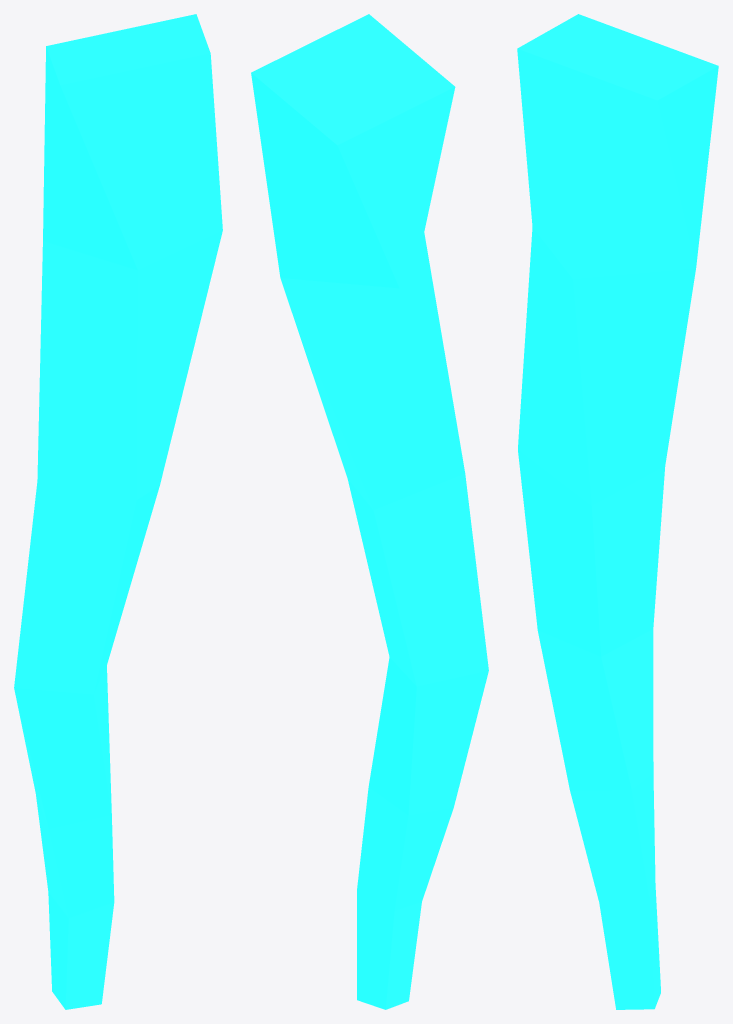
File: Plant.fbx
3 views of the same model, side by side, from view 1: azimuth 30°, elevation 25°; view 2: azimuth 150°, elevation 25°; view 3: azimuth 270°, elevation 25° (orthographic). The views are drawn at different scales.
Visible parts, largest first — view 1: Cube.015; view 2: Cube.015; view 3: Cube.015.
Boxes of the visible parts, <box> form: Cube.015: <box>14,14,222,1009</box>; Cube.015: <box>251,14,488,1009</box>; Cube.015: <box>517,14,718,1009</box>.
Bounding box in the file's own units: 7.81 × 33.64 × 6.2.
